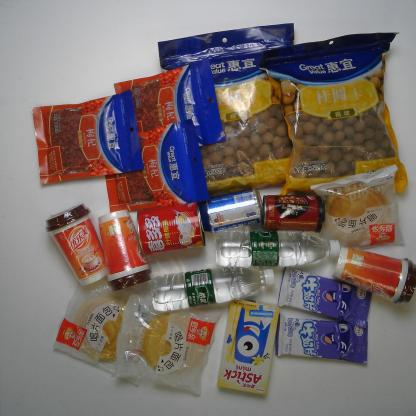Alcohol: (196, 185, 264, 235)
Candy: (276, 262, 378, 329), (271, 311, 371, 366)
Canned Food: (133, 200, 208, 260), (259, 191, 329, 238)
Dessert: (48, 276, 171, 388), (108, 295, 224, 396), (311, 163, 407, 255), (215, 296, 282, 397)
Dried Food: (154, 21, 325, 199), (255, 29, 412, 202)
Dried Fruit: (30, 87, 150, 190), (102, 115, 212, 222), (111, 57, 226, 158)
Drink: (149, 264, 276, 313), (211, 225, 343, 270)
Instant Drink: (43, 203, 109, 288), (330, 244, 416, 306), (97, 209, 154, 294)
